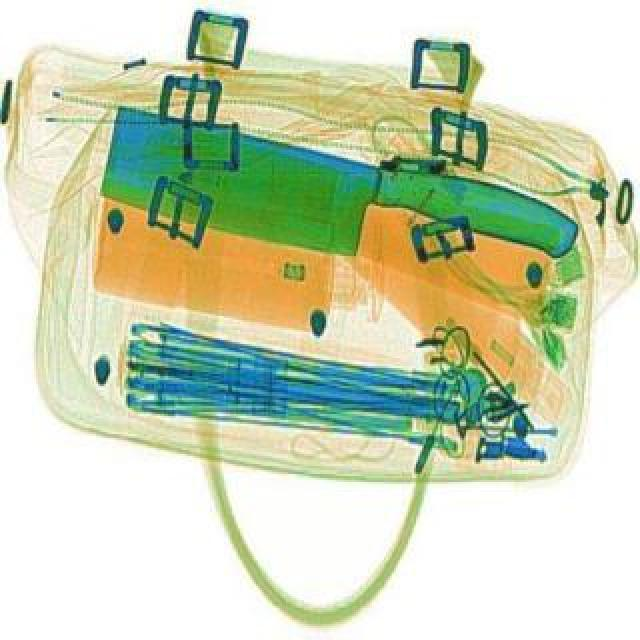knife: (88, 96, 582, 316)
